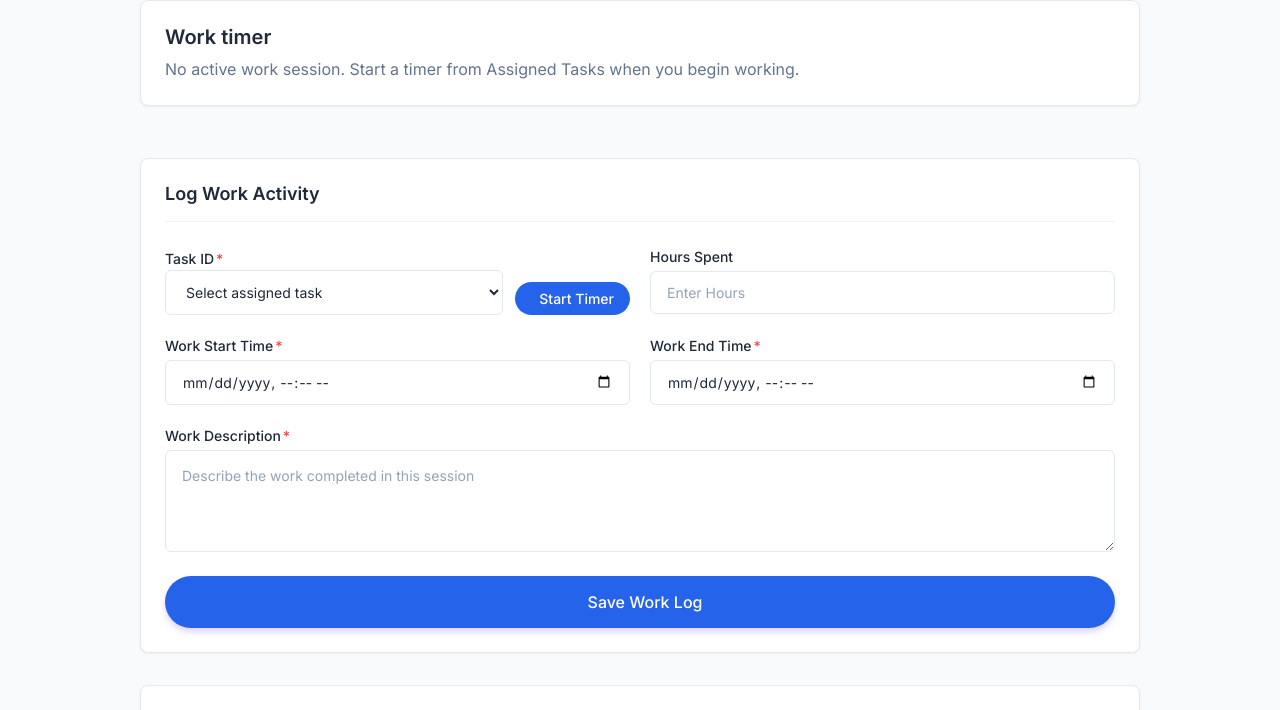
Test: Employee work logs and timer recovery › shows the timer API error and does not claim that a failed start succeeded
The image size is (1280, 710).
Select "#TK001 - Layout" in the dropdown labelled "Task ID*" at (334, 292), box [165,270,503,315]
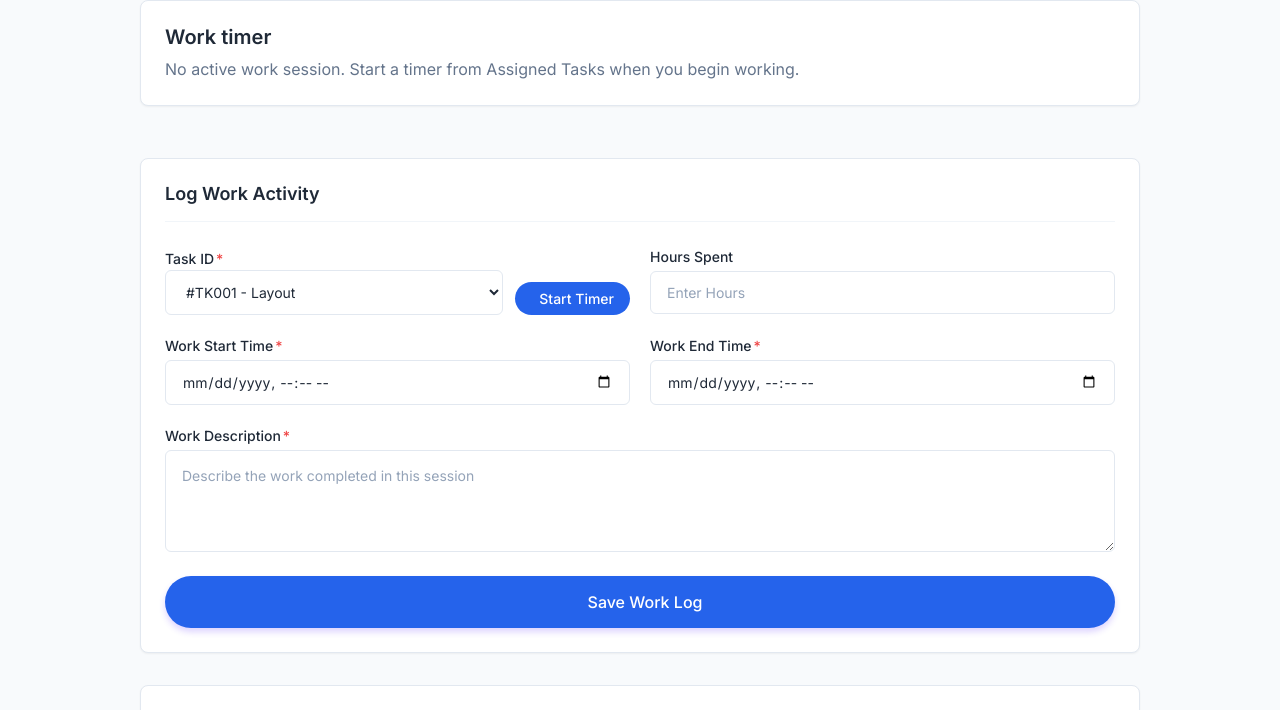
Click the button with aria-label "Start timer for selected task" at (573, 298), box [515,282,630,315]
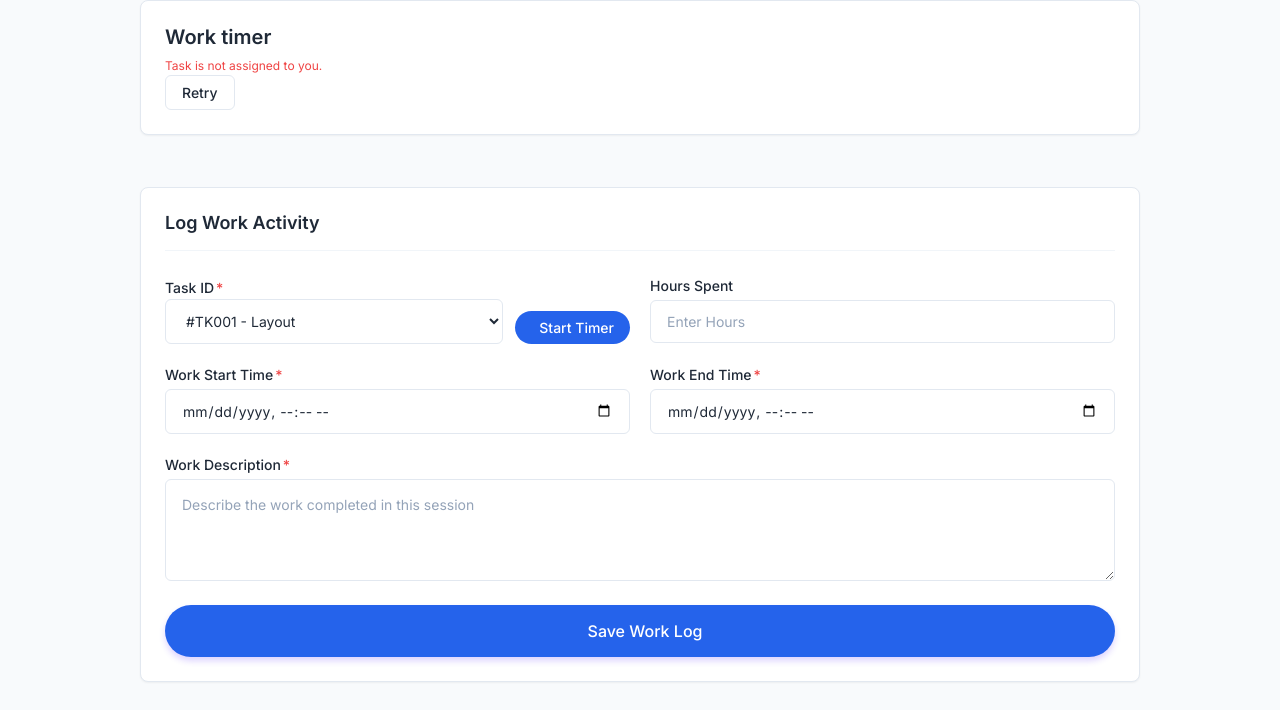
Check: the message reads "Task is not assigned to you.", box [165,58,322,73]
